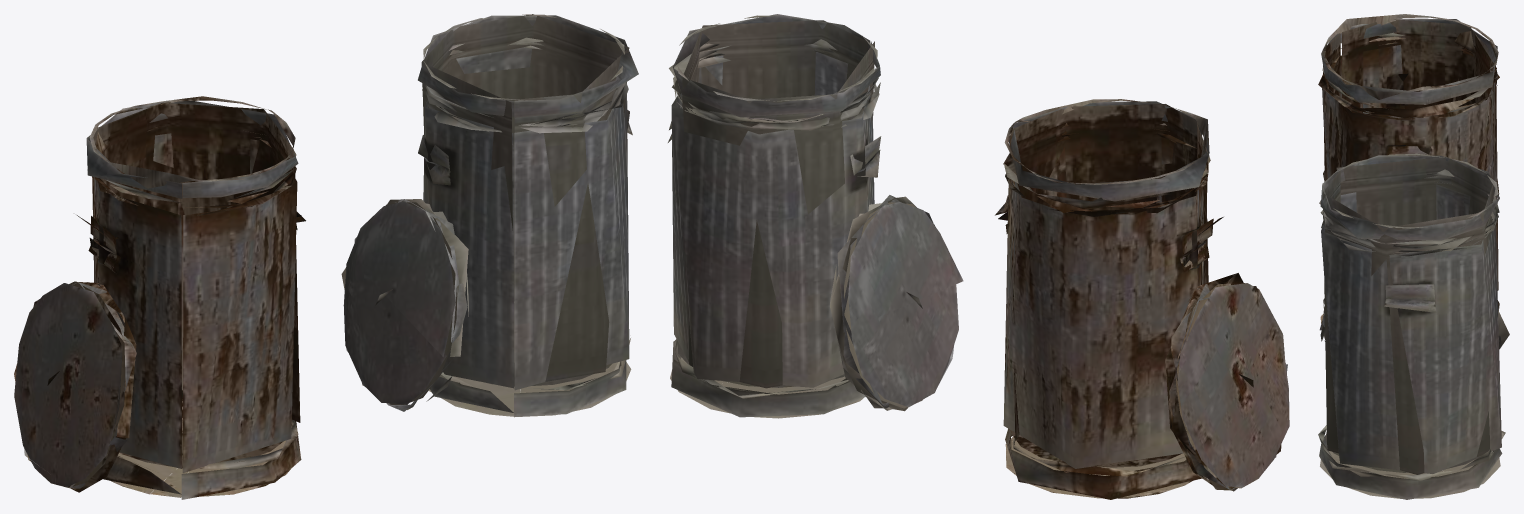
The model's file is ph_metal_trash_can.glb.
3 renders of one model, left to right at view 1: azimuth 30°, elevation 25°; view 2: azimuth 150°, elevation 25°; view 3: azimuth 270°, elevation 25°, orthographic. The views are drawn at different scales.
Visible parts, largest first — view 1: metal_trash_can_handle_left; view 2: metal_trash_can_handle_left; view 3: metal_trash_can_handle_left.
Part boxes in pixels (left/top/right/bottom): metal_trash_can_handle_left: left=14, top=14, right=638, bottom=499; metal_trash_can_handle_left: left=668, top=14, right=1289, bottom=499; metal_trash_can_handle_left: left=1318, top=14, right=1509, bottom=499.
Size of the model in its own units: 1.73 by 0.9305 by 0.5838.
Materials: 3 (3 with a texture image).
